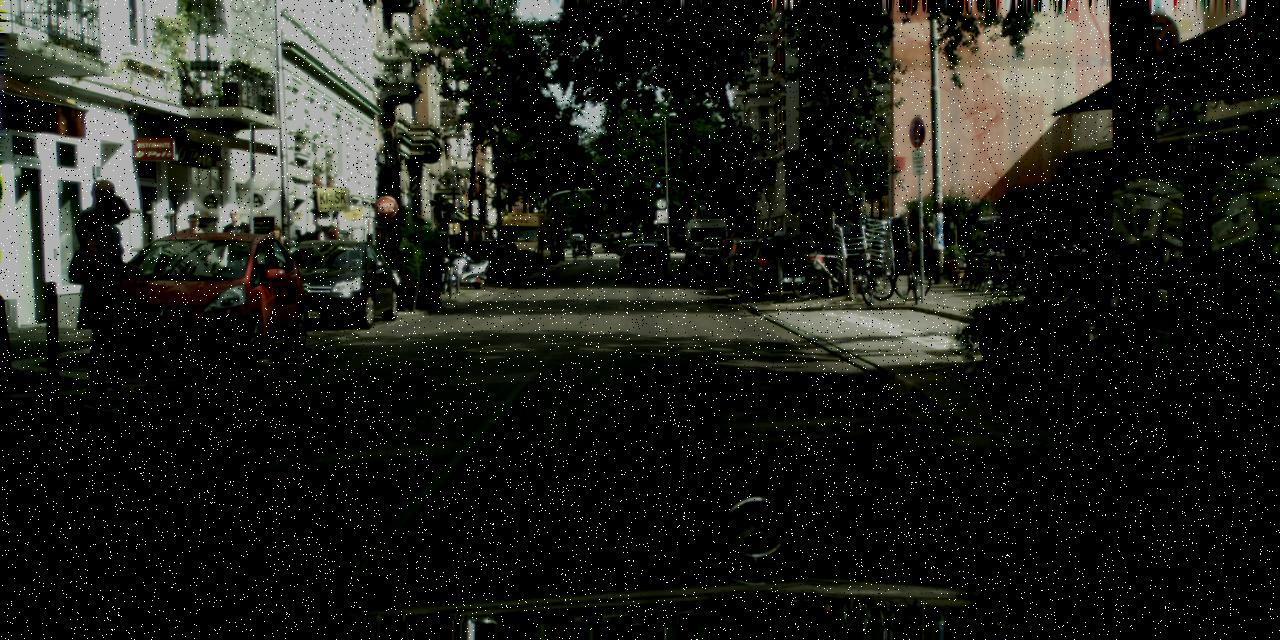ped: (56, 177, 151, 411), (78, 195, 158, 393), (218, 208, 258, 307), (172, 213, 212, 311), (294, 222, 327, 302), (261, 223, 293, 303), (316, 225, 348, 302), (773, 224, 788, 260), (784, 227, 797, 260), (456, 241, 479, 259), (762, 227, 774, 259), (768, 228, 780, 258), (759, 230, 770, 258), (571, 240, 577, 256), (584, 239, 590, 254), (452, 247, 453, 257)
